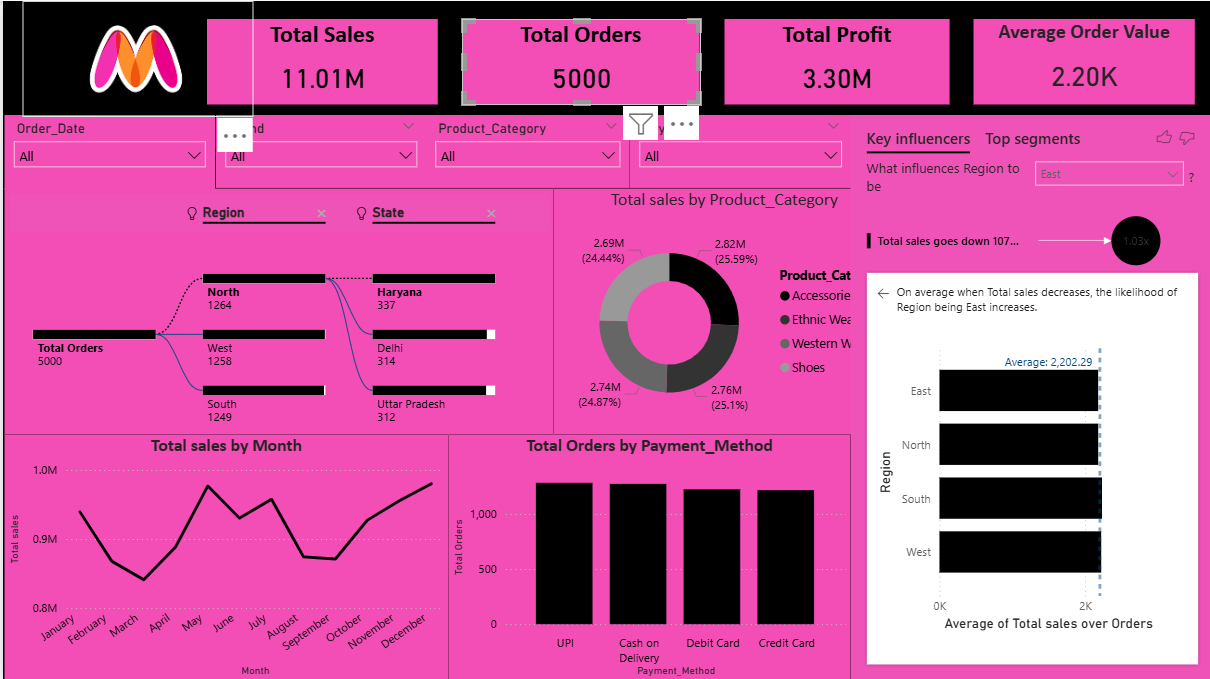

Layout of this report page (visuals, bound fields, positions):
{"tool":"powerbi","page":{"name":"Page 1","canvas":[1280,720],"ordinal":0},"visuals":[{"type":"card","title":"Total Orders","fields":{"Values":["Orders.Total Orders"]},"box":[487.2,19.3,252.3,90.5],"z":0},{"type":"card","title":"Total Sales","fields":{"Values":["Orders.Total sales"]},"box":[215.7,19.3,244.6,90.5],"z":1000},{"type":"card","title":"Average Order Value","fields":{"Values":["Orders.Average Order Value"]},"box":[1028.4,19.3,234.9,90.5],"z":2000},{"type":"card","title":"Total Profit","fields":{"Values":["Orders.Total Profit"]},"box":[764.5,19.3,238.8,90.5],"z":3000},{"type":"lineChart","fields":{"Category":["Orders.Order_Date.Variation.Date Hierarchy.Month"],"Y":["Orders.Total sales"]},"box":[1.6,459.7,470.8,260.9],"z":4000},{"type":"donutChart","fields":{"Category":["Orders.Product_Category"],"Y":["Orders.Total sales"]},"box":[583.8,198.8,362.7,260.9],"z":5000},{"type":"columnChart","fields":{"Category":["Orders.Payment_Method"],"Y":["Orders.Total Orders"]},"box":[472.4,459.7,426.3,260.9],"z":7000},{"type":"slicer","fields":{"Values":["Orders.Order_Date"]},"box":[1.9,121.3,223.4,79],"z":9000},{"type":"slicer","fields":{"Values":["Orders.Brand"]},"box":[225.3,121.3,223.4,77],"z":10000},{"type":"slicer","fields":{"Values":["Orders.Product_Category"]},"box":[448.7,121.3,215.7,77],"z":11000},{"type":"slicer","fields":{"Values":["Orders.City"]},"box":[664.4,121.3,234.9,77],"z":12000},{"type":"image","box":[20.7,0,245,122.5],"z":13000},{"type":"decompositionTreeVisual","fields":{"Analyze":["Orders.Total Orders"],"ExplainBy":["Orders.Region","Orders.State"]},"box":[1.6,198.8,582.2,260.9],"z":14000},{"type":"keyDriversVisual","fields":{"Target":["Orders.Region"],"ExplainBy":["Orders.Total sales"]},"box":[898.7,120.9,381.7,599.7],"z":14001}]}

Visuals, with their boxes in screenshot pixels (x1, y1, x2, y2), scaled from the page's 1280x720 canvas onto the 1210x679 screenshot:
"Total Orders" card: (left=461, top=18, right=699, bottom=104)
"Total Sales" card: (left=204, top=18, right=435, bottom=104)
"Average Order Value" card: (left=972, top=18, right=1194, bottom=104)
"Total Profit" card: (left=723, top=18, right=948, bottom=104)
lineChart - Orders.Order_Date.Variation.Date Hierarchy.Month x Orders.Total sales: (left=2, top=434, right=447, bottom=678)
donutChart - Orders.Product_Category x Orders.Total sales: (left=552, top=187, right=895, bottom=434)
columnChart - Orders.Payment_Method x Orders.Total Orders: (left=447, top=434, right=850, bottom=678)
slicer - Orders.Order_Date: (left=2, top=114, right=213, bottom=189)
slicer - Orders.Brand: (left=213, top=114, right=424, bottom=187)
slicer - Orders.Product_Category: (left=424, top=114, right=628, bottom=187)
slicer - Orders.City: (left=628, top=114, right=850, bottom=187)
image: (left=20, top=0, right=251, bottom=116)
decompositionTreeVisual - Orders.Total Orders x Orders.Region: (left=2, top=187, right=552, bottom=434)
keyDriversVisual - Orders.Region x Orders.Total sales: (left=850, top=114, right=1209, bottom=678)
